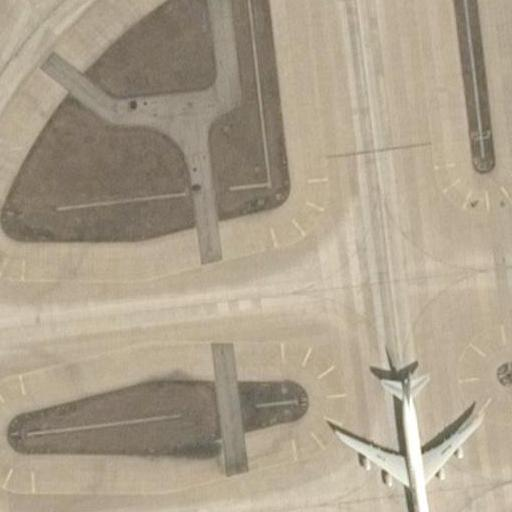Aircraft: (318, 354, 482, 512)
